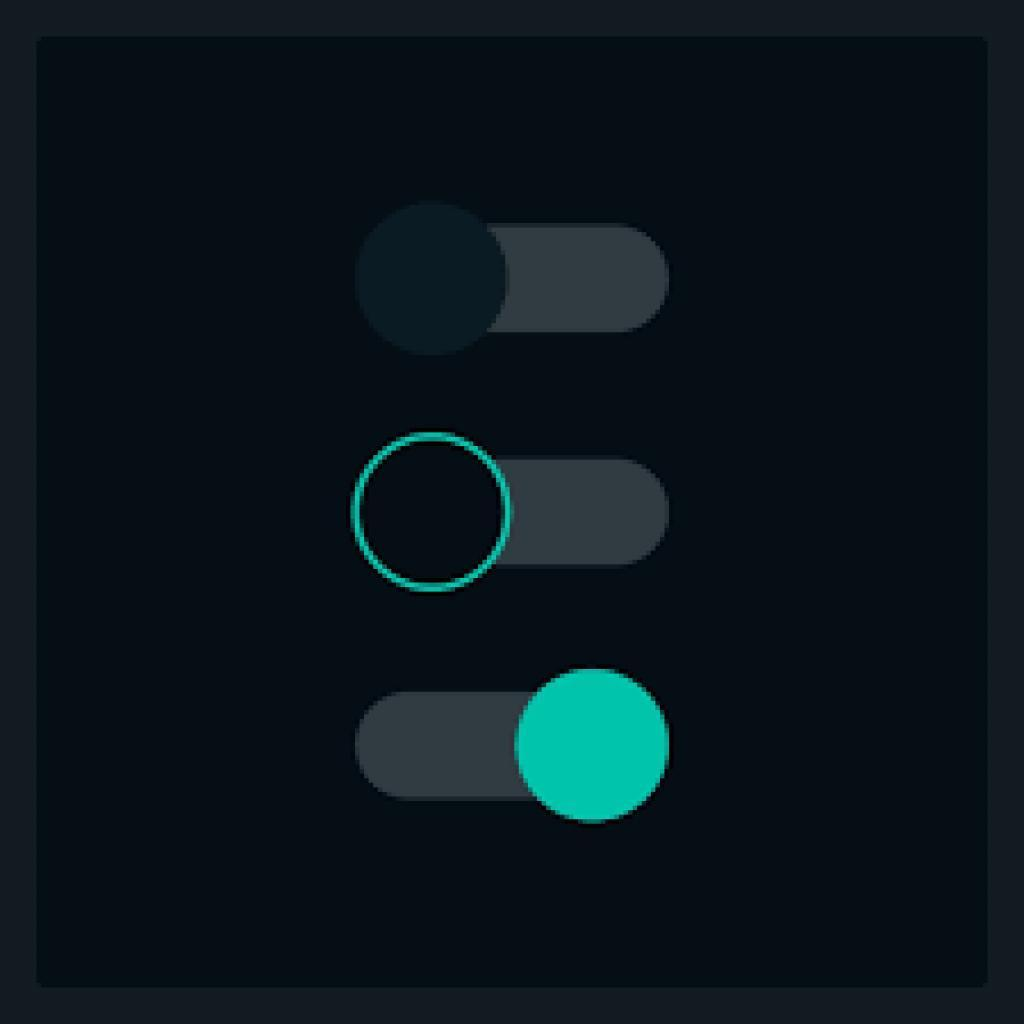switch: (343, 420, 674, 614), (337, 663, 691, 825), (349, 196, 699, 352)
